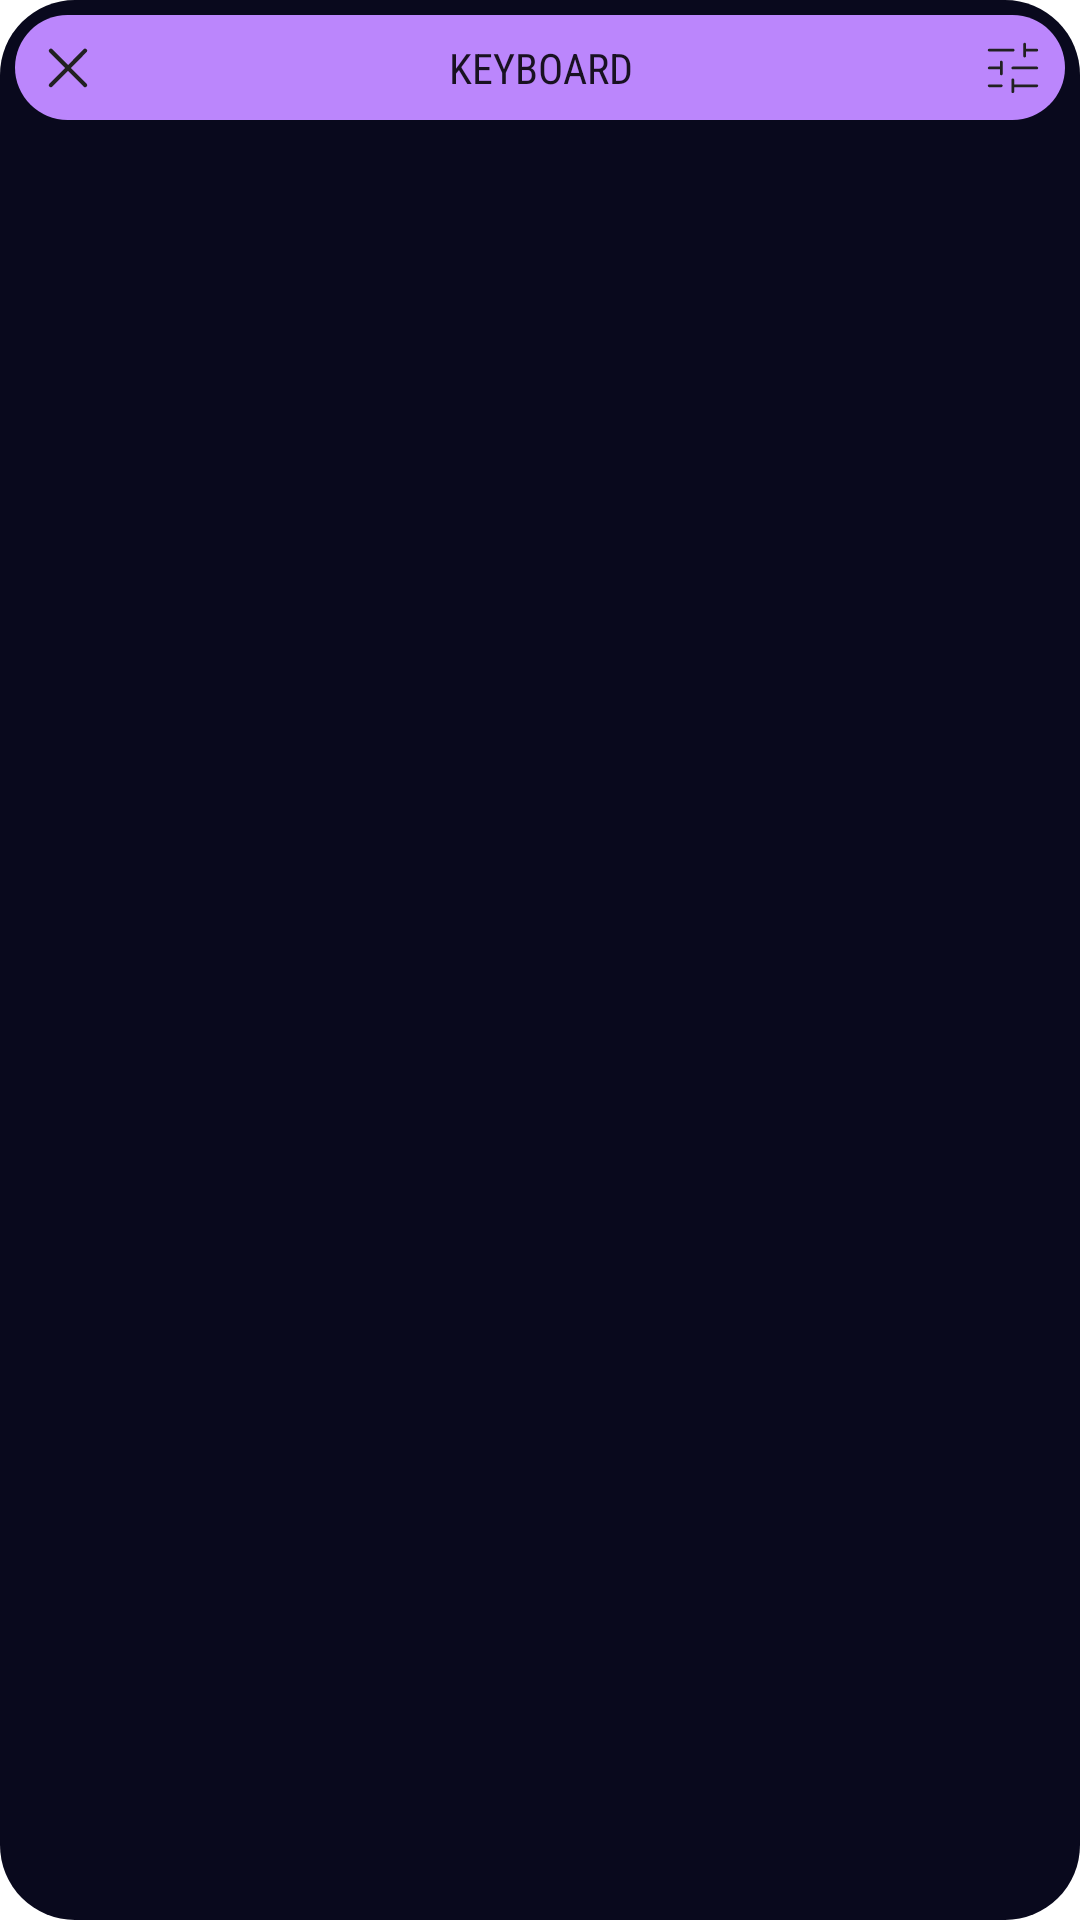

Icon bounding boxes for this 1080x1920 phone screenshot, format (x1, y1, x2, y2):
close: (15, 15, 120, 120)
settings: (960, 15, 1065, 120)
